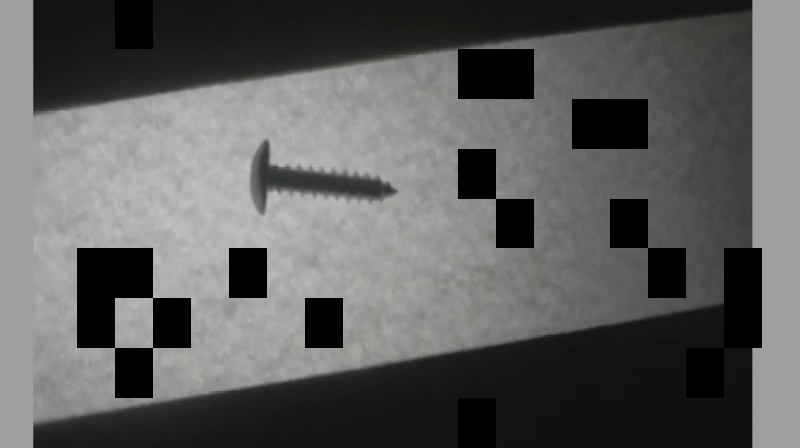S003: (244, 137, 402, 216)
